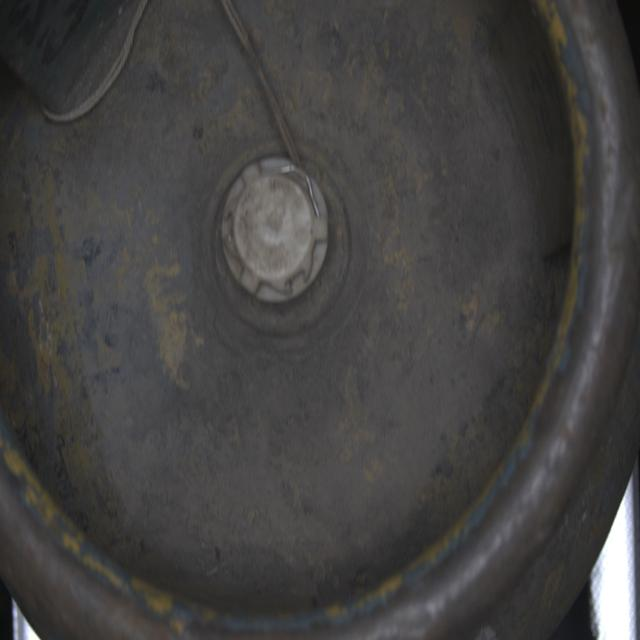Cap: (219, 155, 335, 311)
